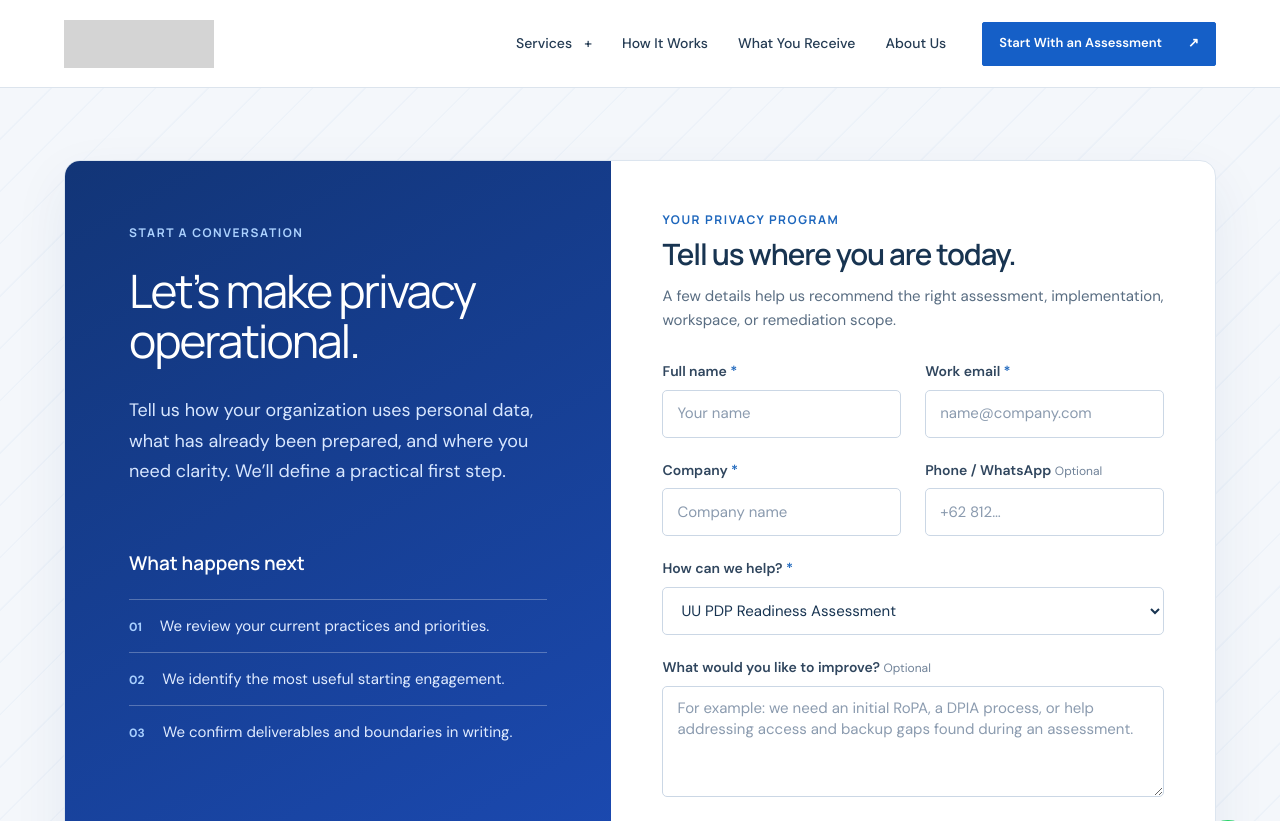
Test: operational privacy experience › preselects the service from a service page and submits useful context
Check: the dropdown labelled "How can we help? *" shows "UU PDP Readiness Assessment", box [662,587,1164,635]
Type "Test Person" into the field labelled "Full name *" at (782, 414), box [662,390,901,438]
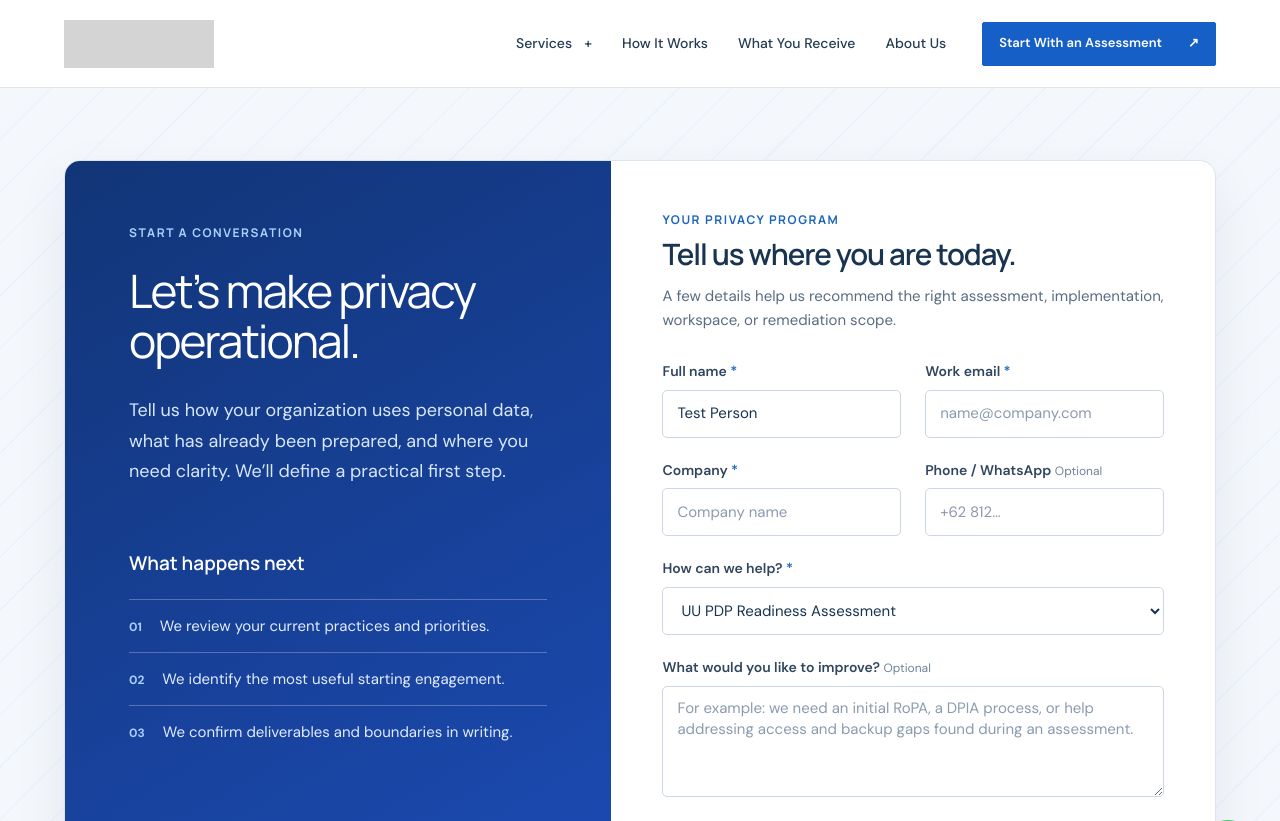
Type "test@example.com" into the field labelled "Work email *" at (1044, 414), box [925,390,1164,438]
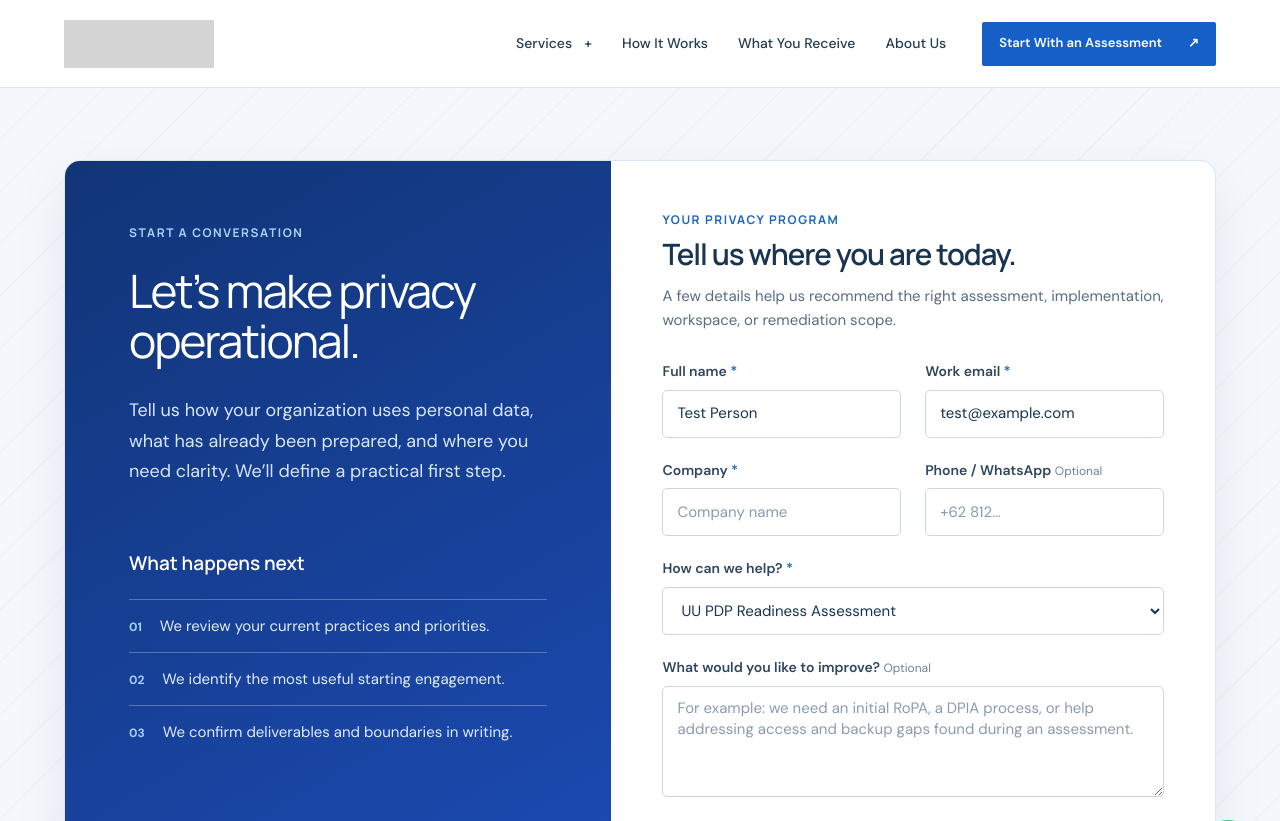
Type "Test Company" into the field labelled "Company *" at (782, 512), box [662,488,901,536]
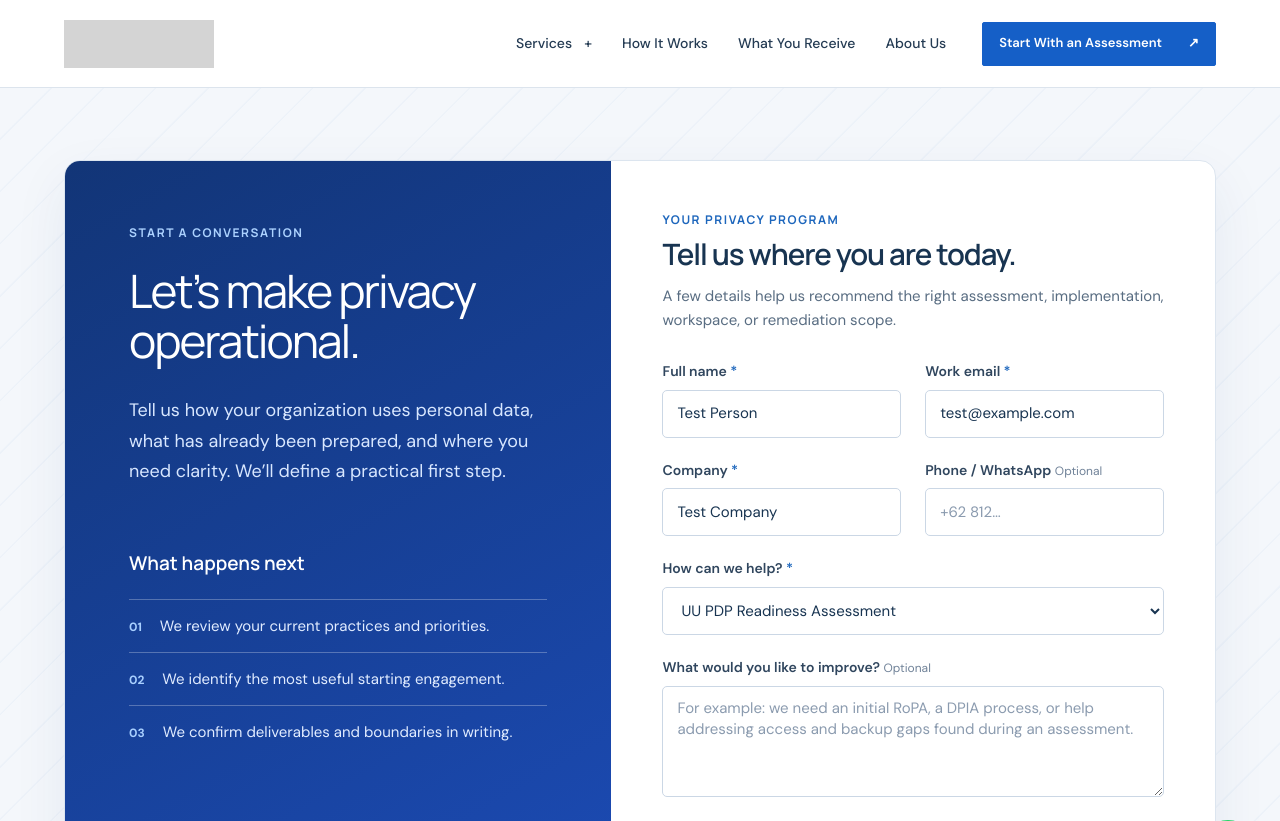
Replace the text in the text box labelled "What would you like to improve? Optional" with "Build our initial RoPA and DPIA process" at (913, 741), box [662,686,1164,797]
(page scrolled)
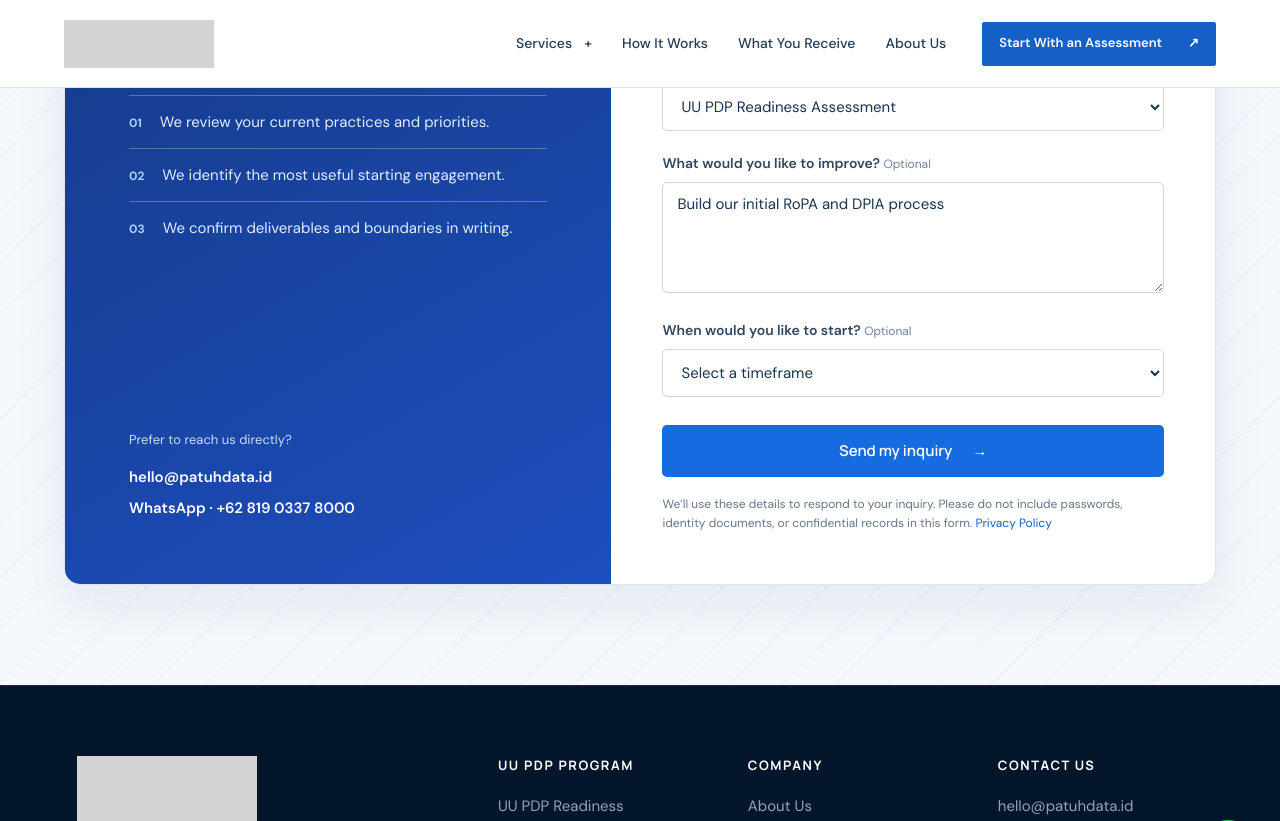
Click the button "Send my inquiry →" at (913, 451), box [662,425,1164,477]
(page scrolled)
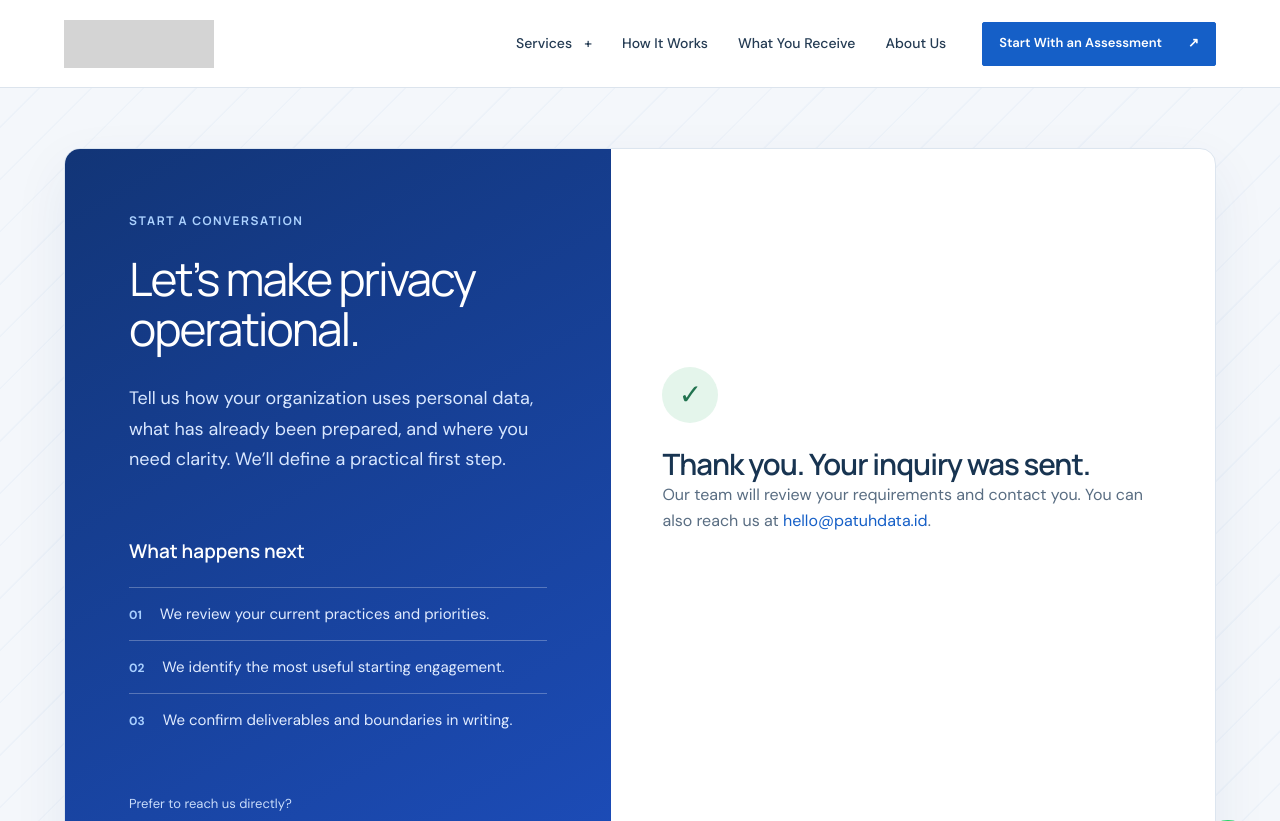
Check: the message shows "Your inquiry was sent", box [662,444,1090,484]
